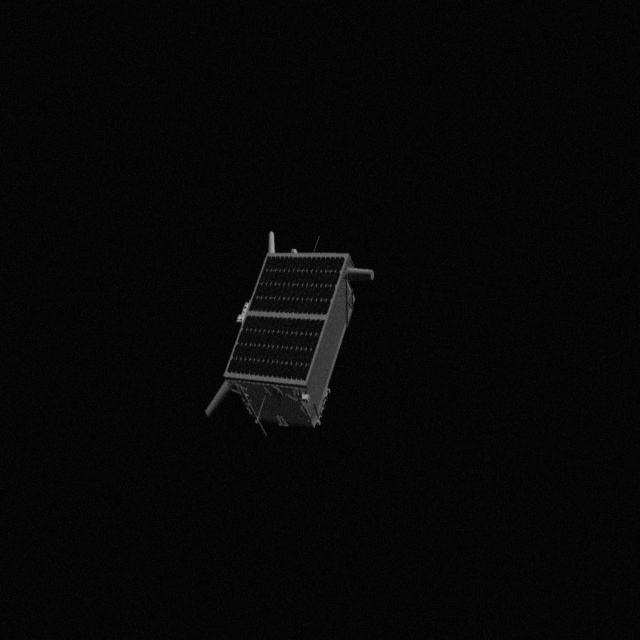medium_debris: (198, 216, 388, 456)
